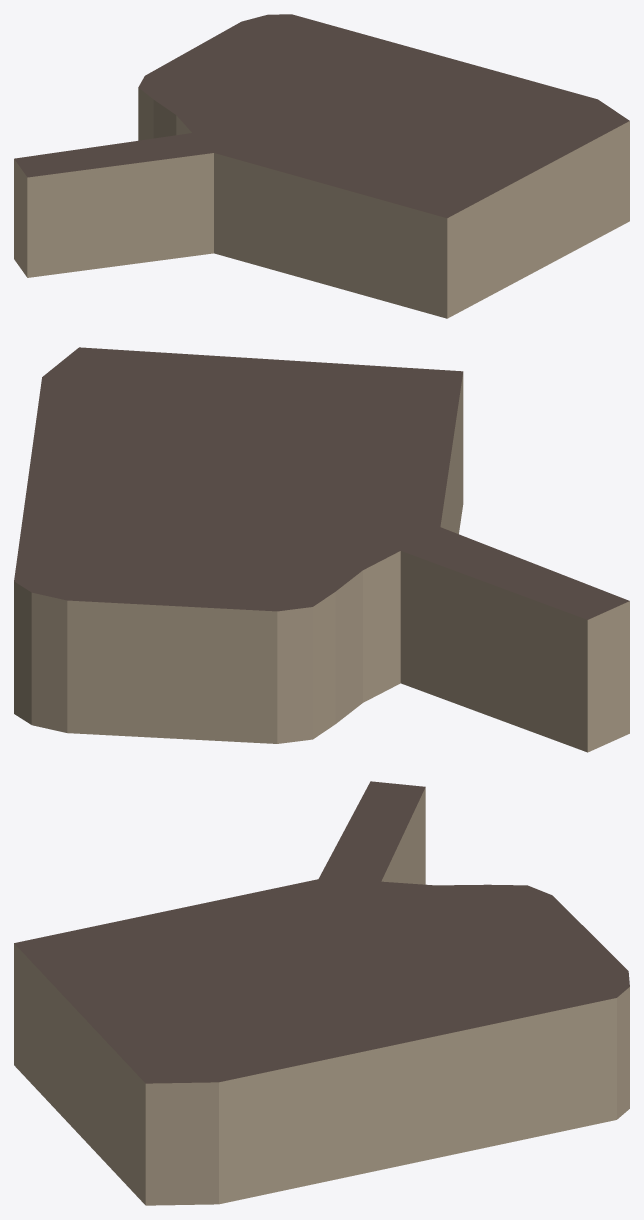
3 views of the same model, one above another, from view 1: azimuth 30°, elevation 25°; view 2: azimuth 150°, elevation 25°; view 3: azimuth 270°, elevation 25° (orthographic). The views are drawn at different scales.
Parts seen in each view (by area): view 1: HP-w299224146; view 2: HP-w299224146; view 3: HP-w299224146.
Boxes of the visible parts, box(x1,y1,x2,y2) form: HP-w299224146: box(14, 14, 629, 318); HP-w299224146: box(14, 347, 629, 752); HP-w299224146: box(14, 781, 629, 1205).
Size of the model in its own units: 47.8 by 9 by 41.17.
